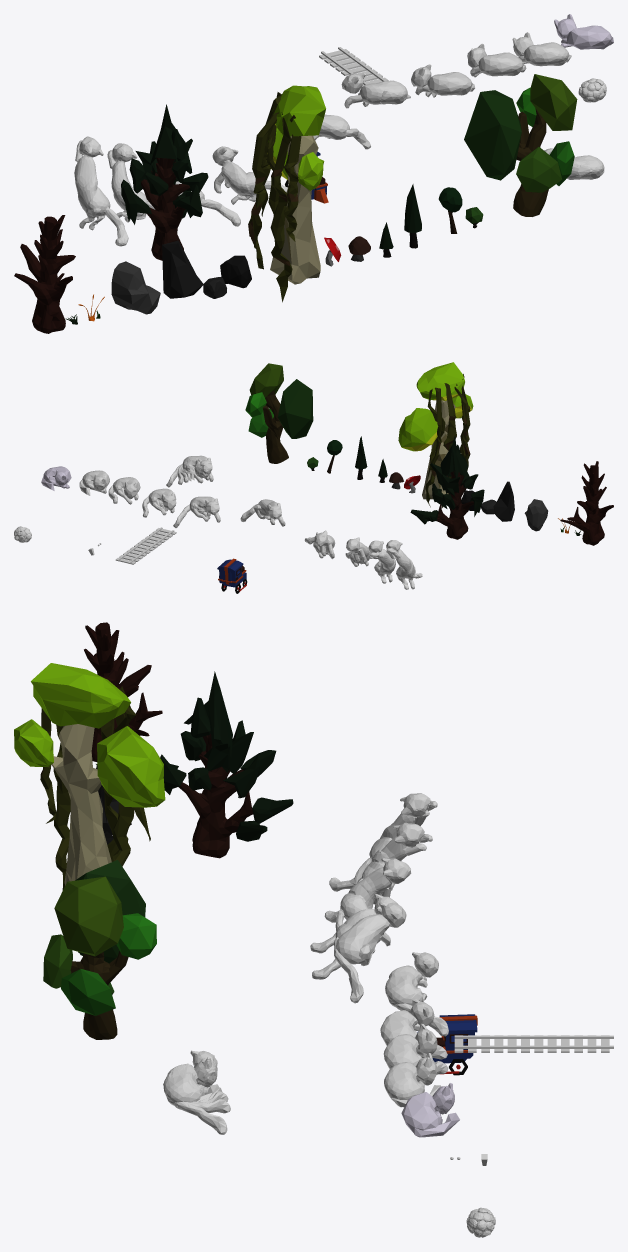
Rendered from cat6.OBJ.
3 views of the same model, one above another, from view 1: azimuth 30°, elevation 25°; view 2: azimuth 150°, elevation 25°; view 3: azimuth 270°, elevation 25° (orthographic). The views are drawn at different scales.
Visible parts, largest first — view 1: tree_05Merged_PM3D_Sphere3D2_5, forestree__3Merged_PM3D_Sphere3D_62, tree_04PM3D_Sphere3D2_1, forestree__3PM3D_Sphereinder3D.001, tree_05Merged_PM3D_Sphere3D1_4, tree_05PM3D_Sphereinder3D, cat10, forestree__3PM3D_Sphereinder3D, tree_04PM3D_Sphere3D1, STONESPM3D_Sphereinder3D1, STONESPM3D_Sphere3D1, tree_04PM3D_Cylinder3D (+18 smaller); view 2: tree_05Merged_PM3D_Sphere3D1_4, forestree__3Merged_PM3D_Sphere3D_62, tree_05Merged_PM3D_Sphere3D2_5, forestree__3PM3D_Sphereinder3D.001, tree_04PM3D_Sphere3D2_1, tree_04PM3D_Cylinder3D, forestree__3PM3D_Sphereinder3D, Tracks_Cube.010, cat10, tree_04PM3D_Sphere3D1, Train_Cube.005, tree_05PM3D_Sphereinder3D (+14 smaller); view 3: tree_05Merged_PM3D_Sphere3D1_4, forestree__3Merged_PM3D_Sphere3D_62, tree_05PM3D_Sphereinder3D, tree_04PM3D_Sphere3D1, tree_05Merged_PM3D_Sphere3D2_5, forestree__3PM3D_Sphereinder3D, forestree__3PM3D_Sphereinder3D.001, cat6, Tracks_Cube.010, cat8, cat5, CAT (+13 smaller).
Part boxes in pixels (box(x1,y1,x2,y2)): tree_05Merged_PM3D_Sphere3D2_5: box(248, 92, 301, 302); forestree__3Merged_PM3D_Sphere3D_62: box(121, 104, 208, 224); tree_04PM3D_Sphere3D2_1: box(464, 90, 521, 180); forestree__3PM3D_Sphereinder3D.001: box(14, 215, 75, 333); tree_05Merged_PM3D_Sphere3D1_4: box(267, 85, 325, 190); tree_05PM3D_Sphereinder3D: box(270, 135, 320, 284); cat10: box(74, 136, 128, 246); forestree__3PM3D_Sphereinder3D: box(141, 157, 189, 260); tree_04PM3D_Sphere3D1: box(530, 74, 577, 130); STONESPM3D_Sphereinder3D1: box(111, 261, 160, 314); STONESPM3D_Sphere3D1: box(162, 240, 203, 298); tree_04PM3D_Cylinder3D: box(513, 108, 548, 216); tree_05Merged_PM3D_Sphere3D1_4: box(398, 362, 473, 451); forestree__3Merged_PM3D_Sphere3D_62: box(410, 435, 484, 524); tree_05Merged_PM3D_Sphere3D2_5: box(425, 374, 470, 507); forestree__3PM3D_Sphereinder3D.001: box(560, 461, 613, 545); tree_04PM3D_Sphere3D2_1: box(277, 379, 313, 438); tree_04PM3D_Cylinder3D: box(263, 390, 288, 463); forestree__3PM3D_Sphereinder3D: box(436, 471, 473, 539); Tracks_Cube.010: box(115, 527, 176, 564); cat10: box(386, 540, 422, 589); tree_04PM3D_Sphere3D1: box(249, 363, 283, 397); Train_Cube.005: box(217, 558, 247, 593); tree_05PM3D_Sphereinder3D: box(422, 400, 455, 499); tree_05Merged_PM3D_Sphere3D1_4: box(14, 663, 165, 807); forestree__3Merged_PM3D_Sphere3D_62: box(160, 671, 293, 841); tree_05PM3D_Sphereinder3D: box(51, 724, 111, 885); tree_04PM3D_Sphere3D1: box(54, 876, 123, 956); tree_05Merged_PM3D_Sphere3D2_5: box(40, 686, 150, 890); forestree__3PM3D_Sphereinder3D: box(178, 733, 253, 858); forestree__3PM3D_Sphereinder3D.001: box(84, 622, 162, 761); cat6: box(334, 902, 406, 1003); Tracks_Cube.010: box(454, 1035, 613, 1052); cat8: box(310, 858, 411, 953); cat5: box(385, 952, 448, 1036); CAT: box(401, 1083, 459, 1137).
Size of the model in its own units: 64.69 by 21.59 by 37.78.
